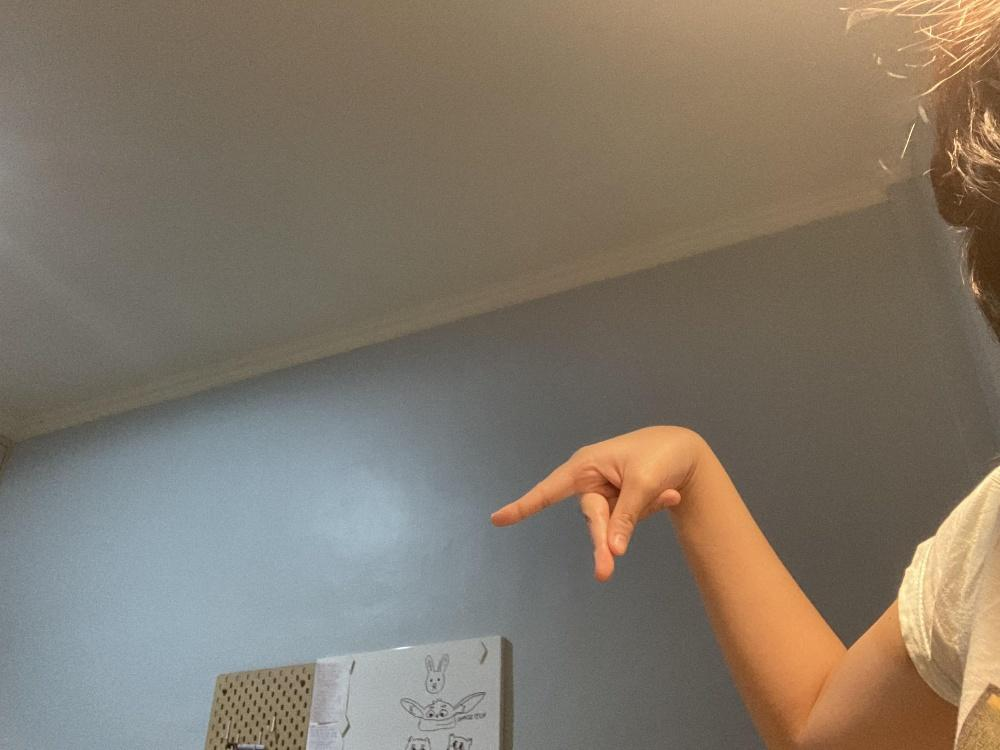p: (489, 424, 692, 580)
